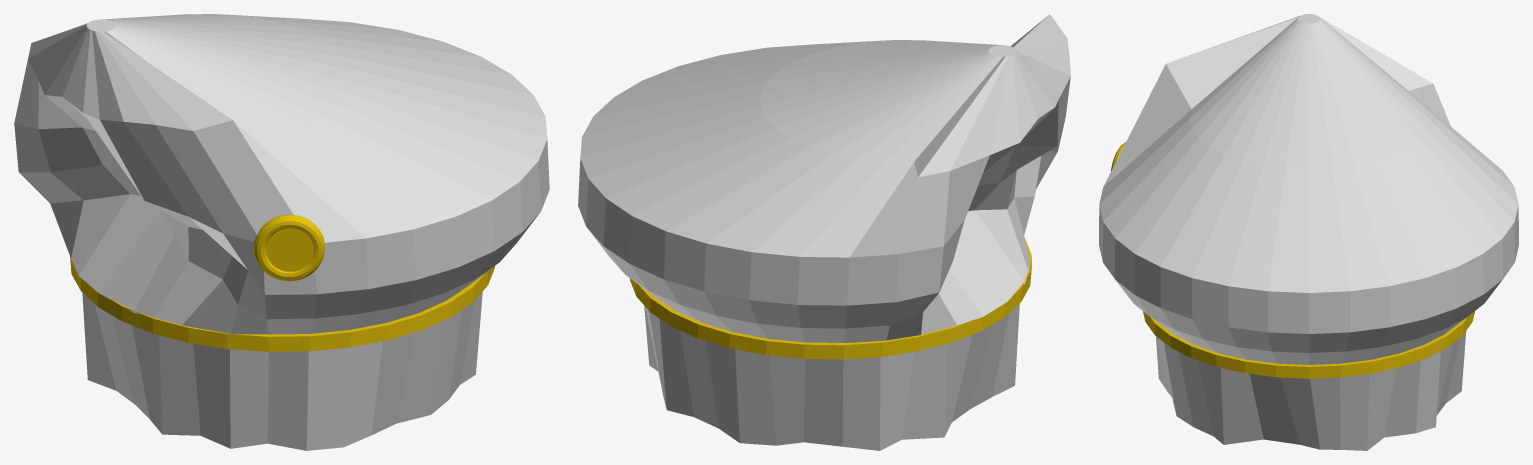
The model's file is AngelToga.fbx.
The picture shows the model from 3 angles, left to right: view 1: azimuth 30°, elevation 25°; view 2: azimuth 150°, elevation 25°; view 3: azimuth 270°, elevation 25°; orthographic projection. The views are drawn at different scales.
Parts seen in each view (by area): view 1: Torus.001; view 2: Torus.001; view 3: Torus.001.
Part boxes in pixels (x1=…): Torus.001: x1=14, y1=14, x2=549, y2=450; Torus.001: x1=578, y1=14, x2=1070, y2=450; Torus.001: x1=1099, y1=14, x2=1518, y2=450.
Bounding box in the file's own units: 224 × 183 × 230.
